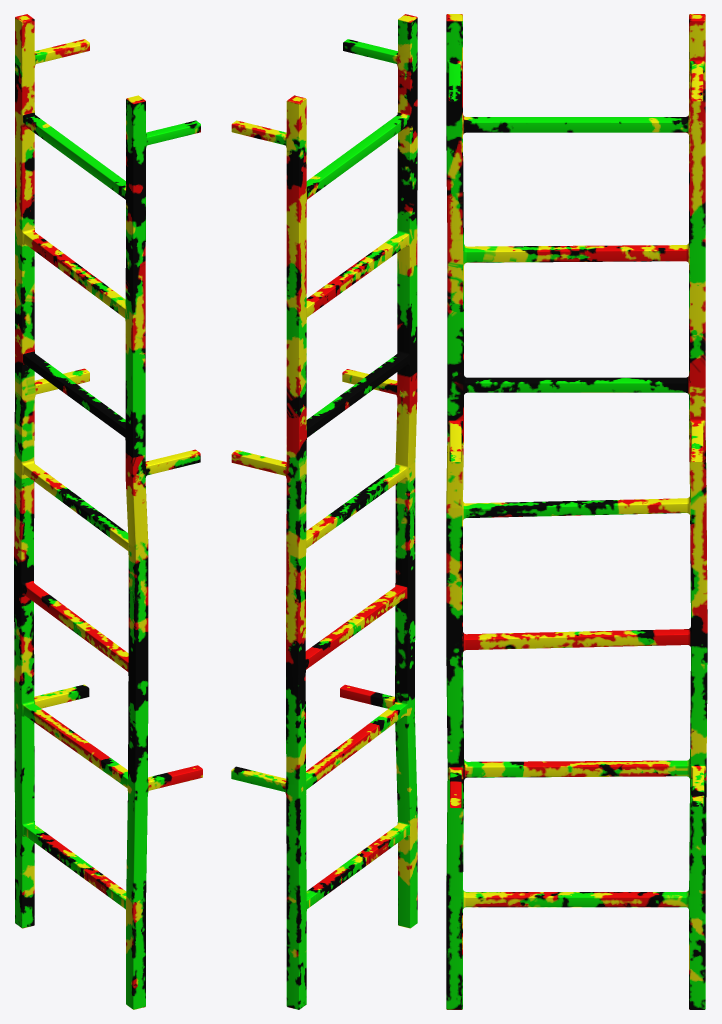
The model's file is sm_Container_Ladder_01_01.fbx.
3 renders of one model, left to right at view 1: azimuth 30°, elevation 25°; view 2: azimuth 150°, elevation 25°; view 3: azimuth 270°, elevation 25°, orthographic. The views are drawn at different scales.
Visible parts, largest first — view 1: sm_Container_Ladder_01_01_LOD0; view 2: sm_Container_Ladder_01_01_LOD0; view 3: sm_Container_Ladder_01_01_LOD0.
Boxes of the visible parts, x1,y1,x2,y2 form: sm_Container_Ladder_01_01_LOD0: (14, 14, 202, 1009); sm_Container_Ladder_01_01_LOD0: (231, 14, 417, 1009); sm_Container_Ladder_01_01_LOD0: (446, 14, 707, 1009).
Size of the model in its own units: 16.7 by 48.56 by 203.
